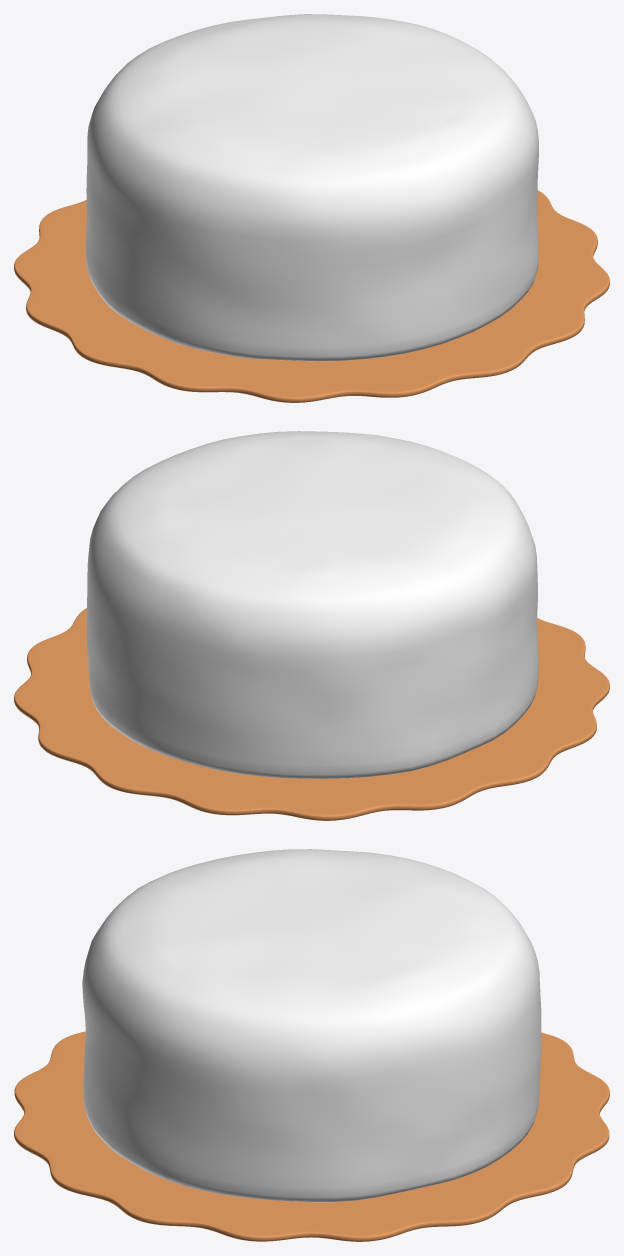
The model's file is cake_compression_0.glb.
The picture shows the model from 3 angles, top to bottom: view 1: azimuth 30°, elevation 25°; view 2: azimuth 150°, elevation 25°; view 3: azimuth 270°, elevation 25°; orthographic projection.
Visible parts, largest first — view 1: body, base; view 2: body, base; view 3: body, base.
Part boxes in pixels (x1,y1,x2,y2): body: (85, 14, 538, 361); base: (14, 190, 609, 402); body: (86, 431, 538, 778); base: (14, 608, 609, 820); body: (82, 849, 541, 1202); base: (14, 1031, 609, 1241).
Bounding box in the file's own units: 2.59 × 0.9534 × 2.59.
